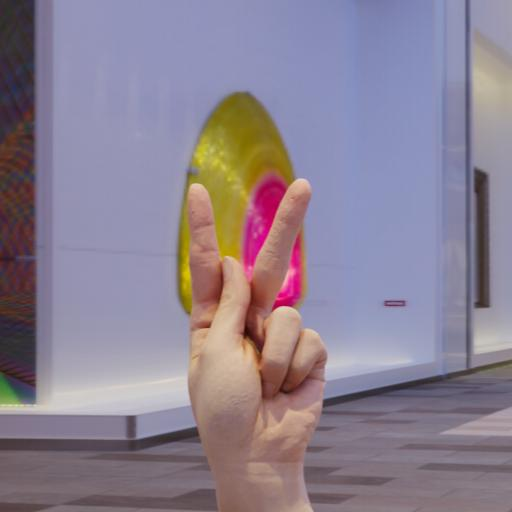K: (178, 178, 335, 487)
